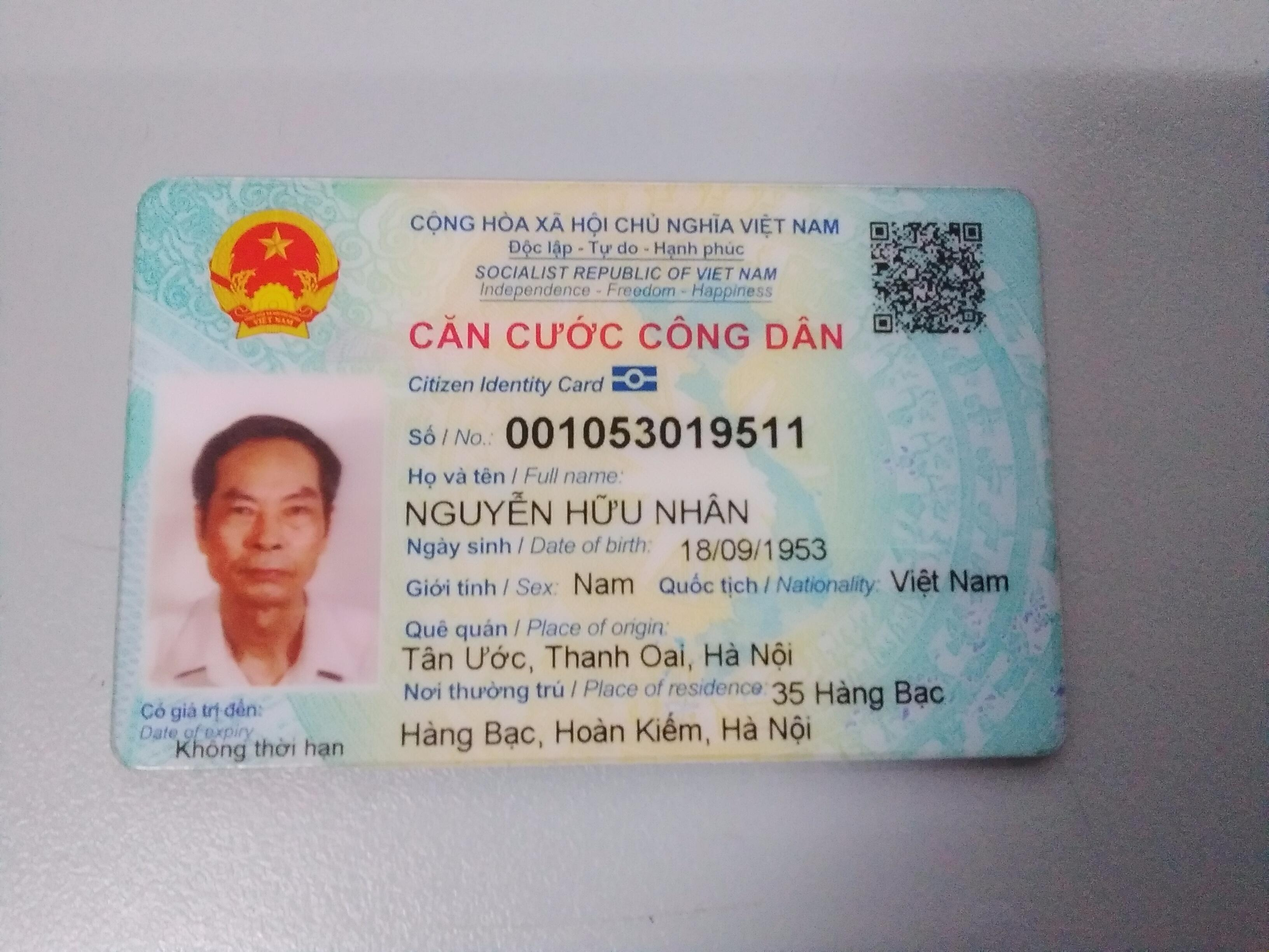ID: (492, 401, 812, 455)
birth: (674, 527, 833, 570)
name: (389, 488, 761, 534)
place: (393, 638, 814, 680)
residence: (389, 707, 821, 754), (769, 673, 951, 713)
